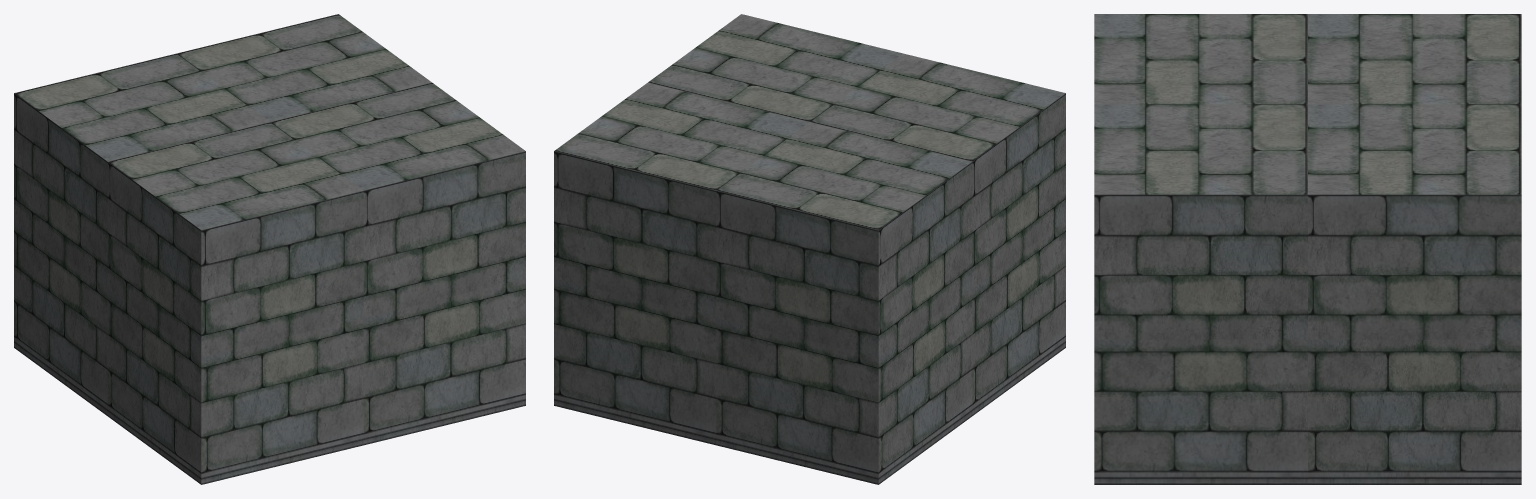
Rendered from block_large_01.glb.
3 renders of one model, left to right at view 1: azimuth 30°, elevation 25°; view 2: azimuth 150°, elevation 25°; view 3: azimuth 270°, elevation 25°, orthographic. The views are drawn at different scales.
Parts seen in each view (by area): view 1: block_large_01; view 2: block_large_01; view 3: block_large_01.
Part boxes in pixels (x1,y1,x2,y2): block_large_01: [14, 14, 525, 484]; block_large_01: [554, 14, 1065, 484]; block_large_01: [1094, 14, 1521, 484].
Size of the model in its own units: 4 by 3 by 4.
1 material, 1 textured.
